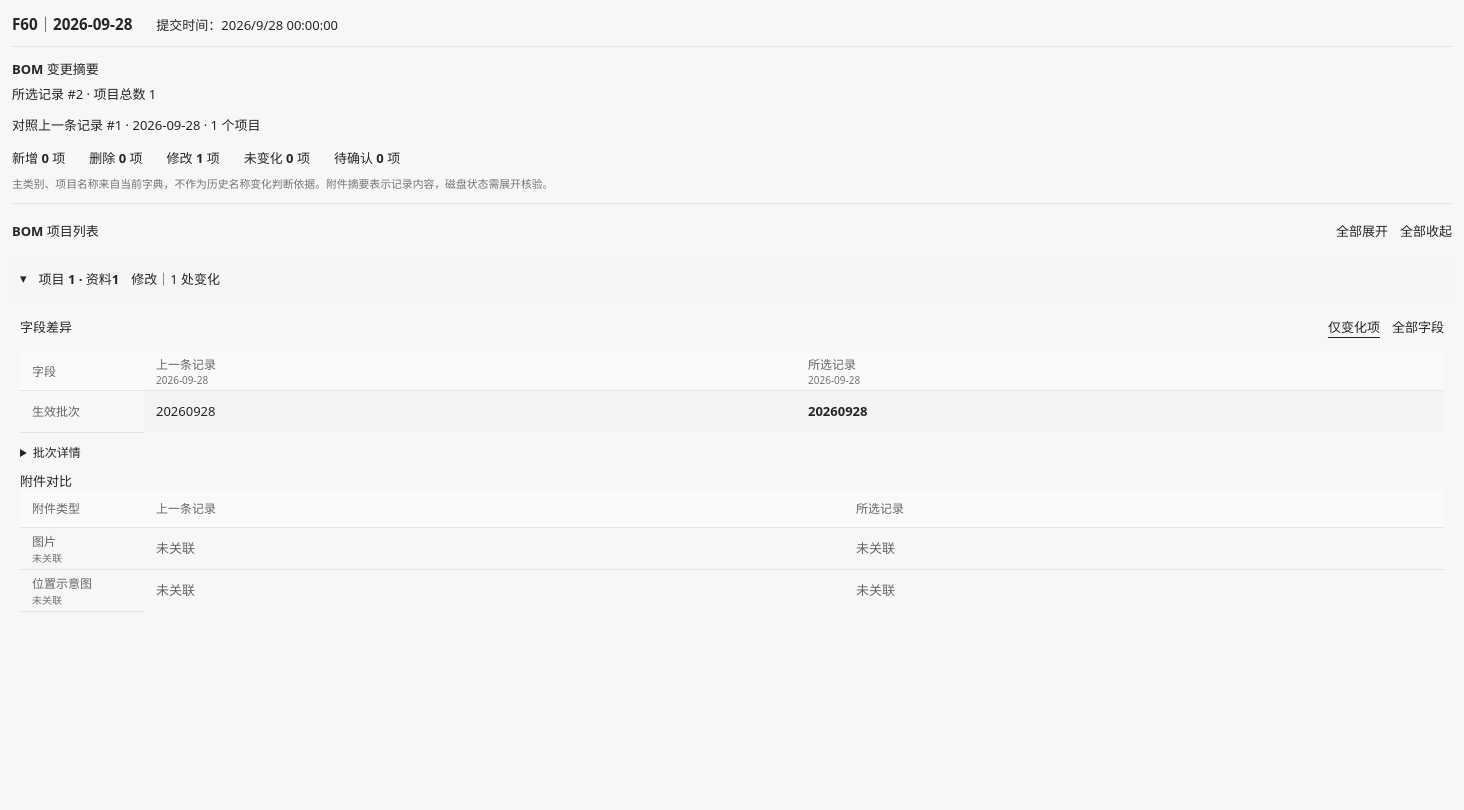
Test case: exposes changed raw batch snapshots on demand when normalized labels look identical
Expected: the text "修改 1 项" is shown, [166, 148, 220, 167]
Expected: the text "old/path" is not shown
Click the heading "批次详情" at (57, 452), box [33, 444, 81, 460]
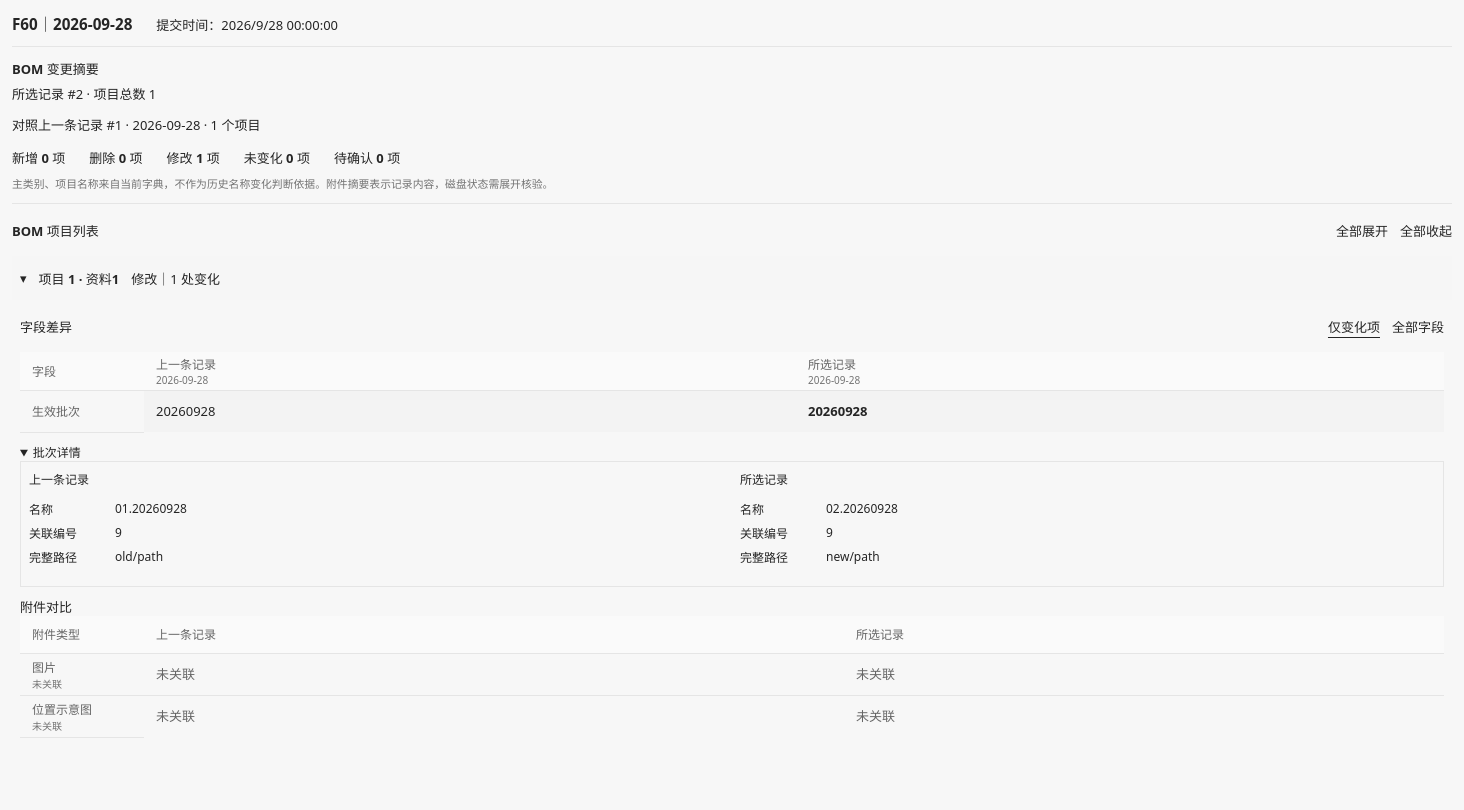
Expected: the row "生效批次" does not show "old/path", [20, 390, 1444, 432]
Now the text "old/path" is shown, box [115, 548, 163, 564]
Now the text "01.20260928" is shown, box [115, 500, 187, 516]
